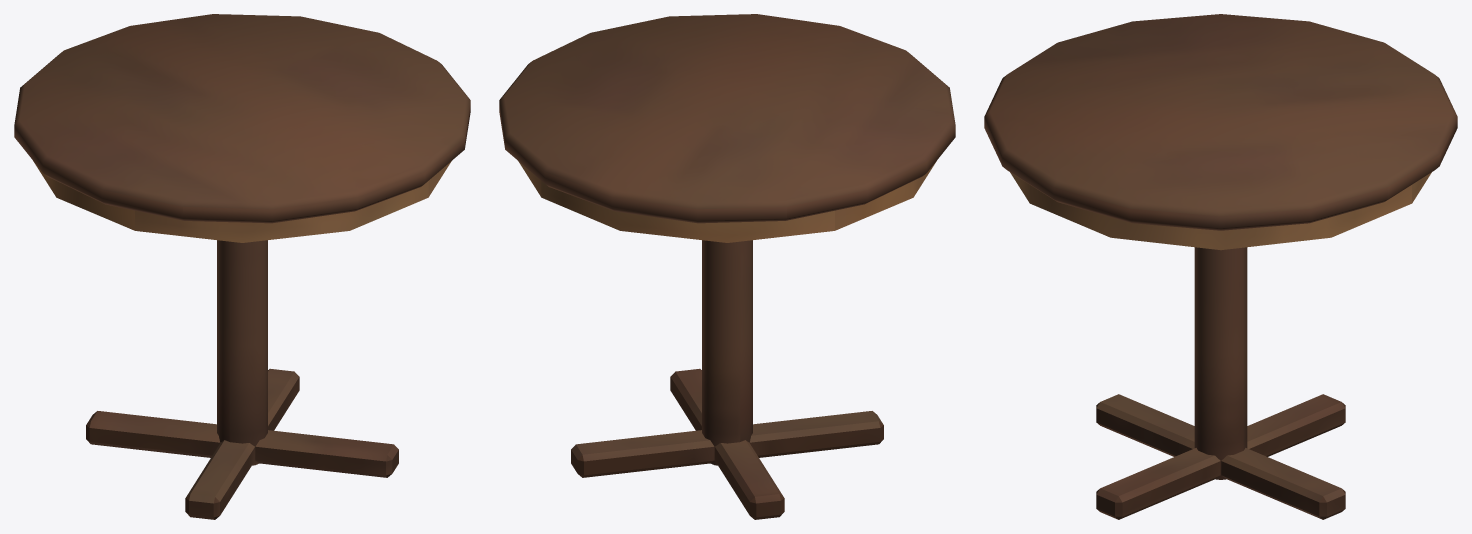
File: table_round.glb
The picture shows the model from 3 angles, left to right: view 1: azimuth 30°, elevation 25°; view 2: azimuth 150°, elevation 25°; view 3: azimuth 270°, elevation 25°; orthographic projection. The views are drawn at different scales.
Parts seen in each view (by area): view 1: table_round; view 2: table_round; view 3: table_round.
Part boxes in pixels (x1,y1,x2,y2): table_round: (14,14,470,519); table_round: (499,14,955,519); table_round: (984,14,1457,519).
Size of the model in its own units: 0.9 by 0.75 by 0.9.
Materials: 2 (2 with a texture image).
